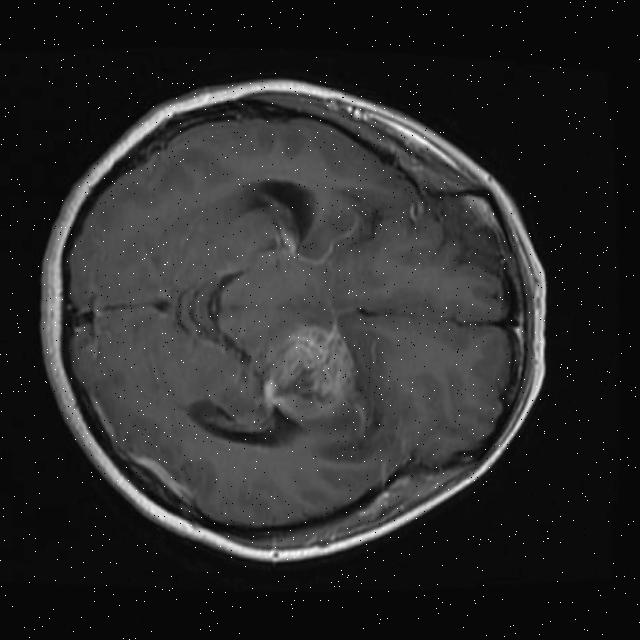Glioma: (256, 317, 361, 428)
